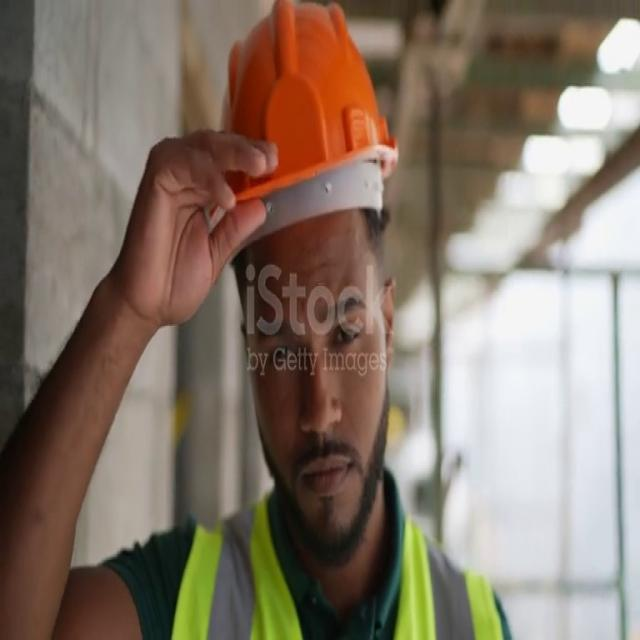capacete: (71, 2, 417, 238)
